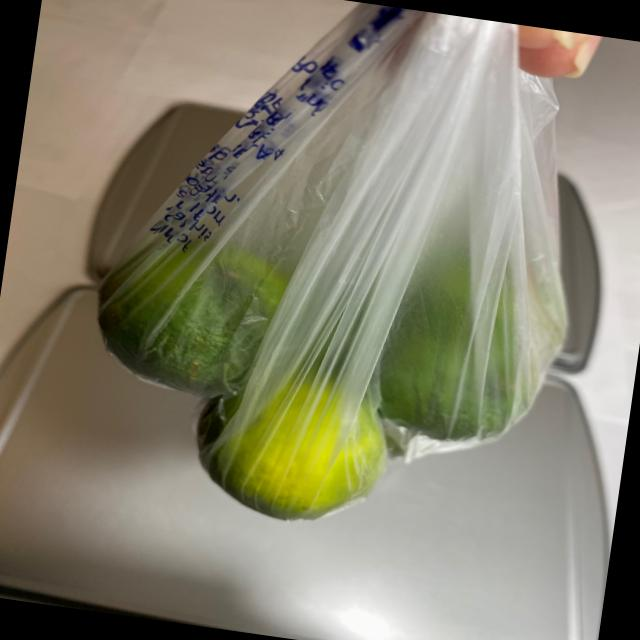lemon: (68, 178, 578, 562)
